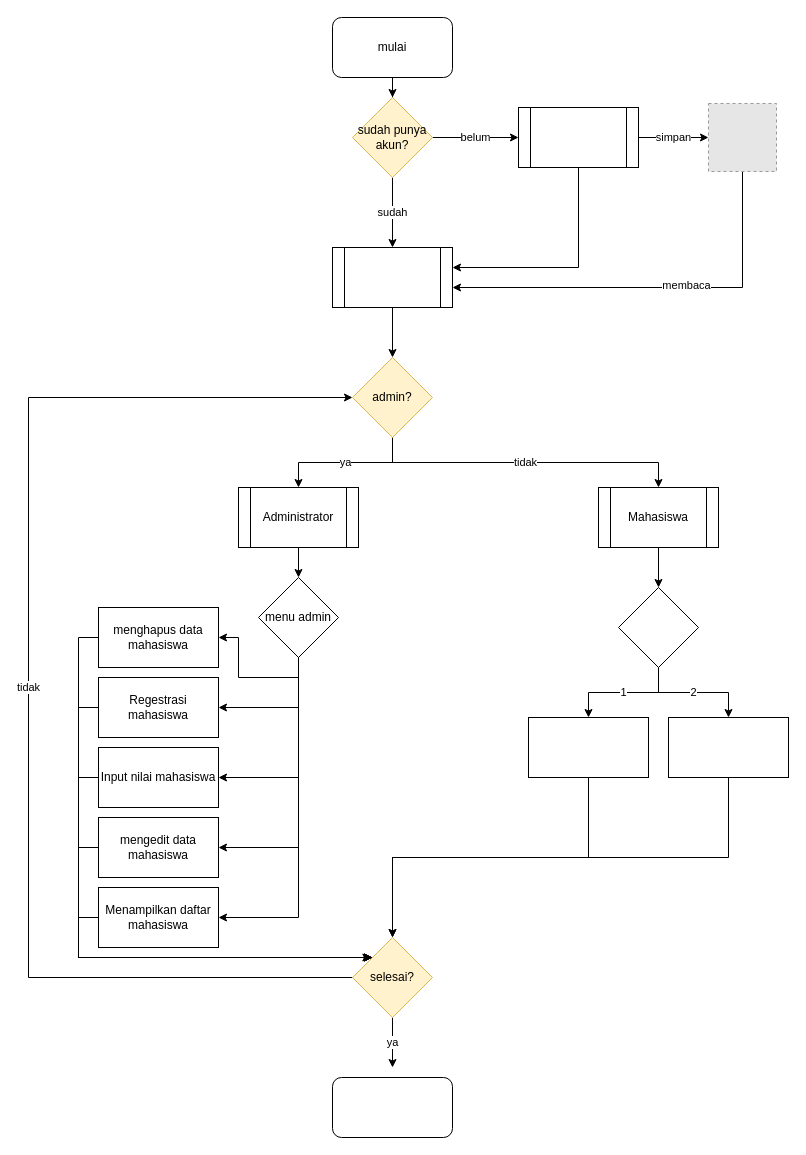
Some shapes in this 806 by 1155 pixel diagram are drawn without their labels. Grey dashed boxes stand in for pictures. The box of each missing label's shape, as (x1, y1, x2, y2) in pixels:
end: (332, 1076, 452, 1138)
login: (332, 246, 452, 308)
Melihat data diri: (668, 716, 788, 778)
melihat nilai: (528, 716, 648, 778)
menu mahasiswa: (618, 586, 698, 668)
registrasi: (518, 106, 638, 168)
